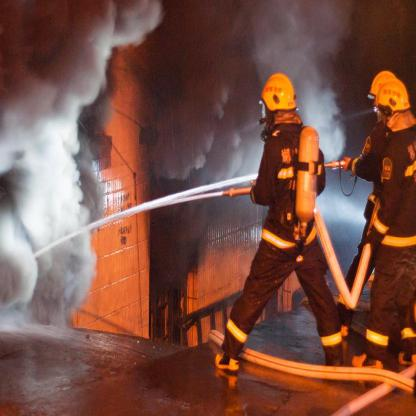other: (366, 63, 415, 116), (256, 68, 304, 112), (260, 223, 300, 252), (363, 322, 391, 349), (319, 324, 344, 354), (224, 314, 247, 346)
smoke: (2, 0, 111, 318), (151, 9, 247, 265)
